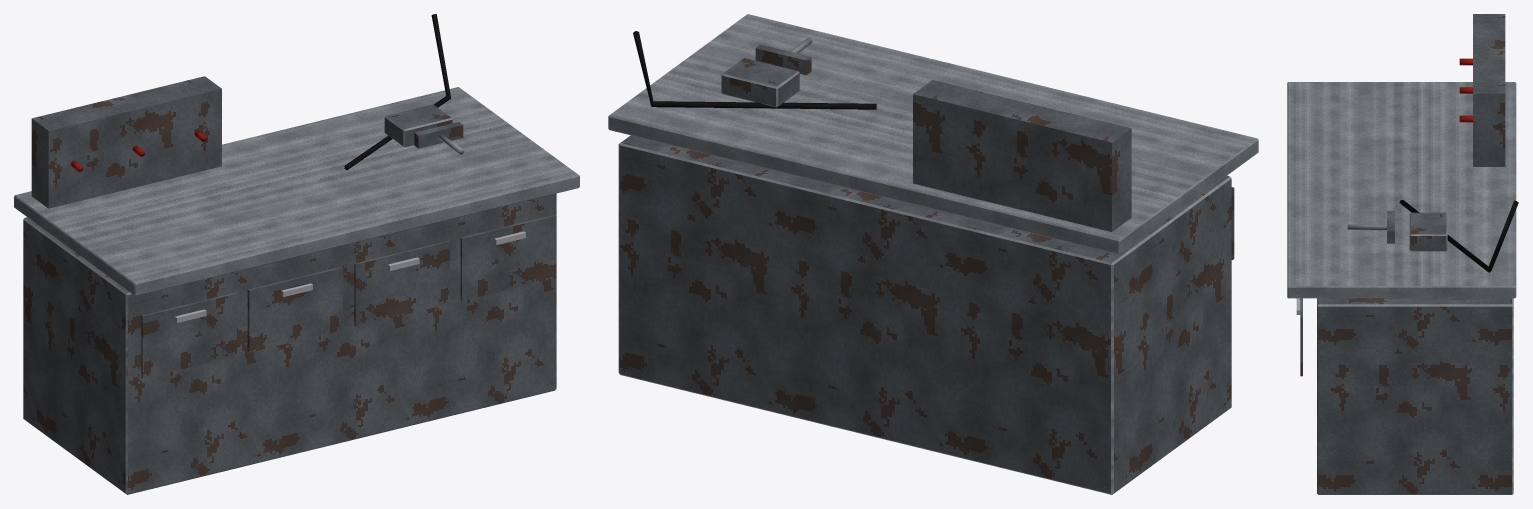
The model's file is Lab_Bench.fbx.
The picture shows the model from 3 angles, left to right: view 1: azimuth 30°, elevation 25°; view 2: azimuth 150°, elevation 25°; view 3: azimuth 270°, elevation 25°; orthographic projection. The views are drawn at different scales.
Visible parts, largest first — view 1: Lab_Bench; view 2: Lab_Bench; view 3: Lab_Bench.
Boxes of the visible parts, x1,y1,x2,y2 form: Lab_Bench: (14,14,579,494); Lab_Bench: (608,14,1258,494); Lab_Bench: (1287,14,1518,494).
Size of the model in its own units: 1.8 by 1.17 by 0.8594.
